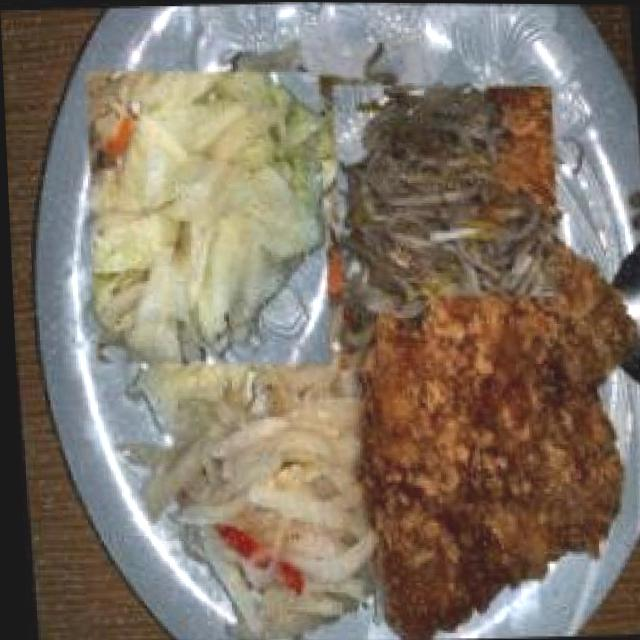chinese_cabbage: (75, 63, 341, 375)
fried_chicken: (332, 239, 639, 640)
mung_bean_sprouts: (326, 75, 564, 306)
